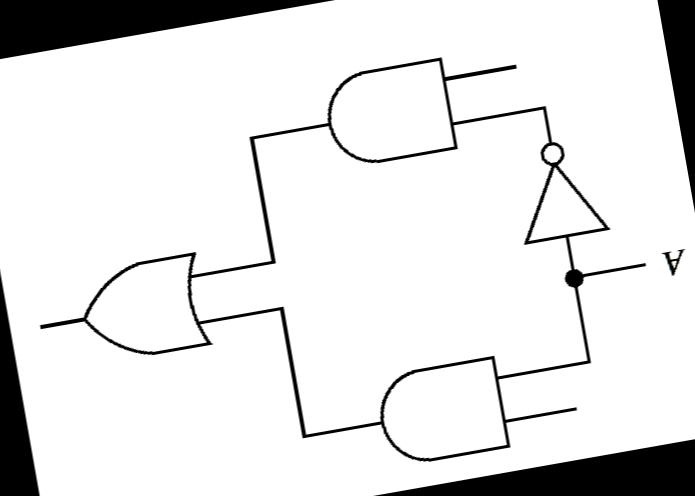and: (308, 46, 464, 176), (360, 348, 516, 474)
not: (504, 127, 612, 249)
or: (68, 245, 219, 370)
